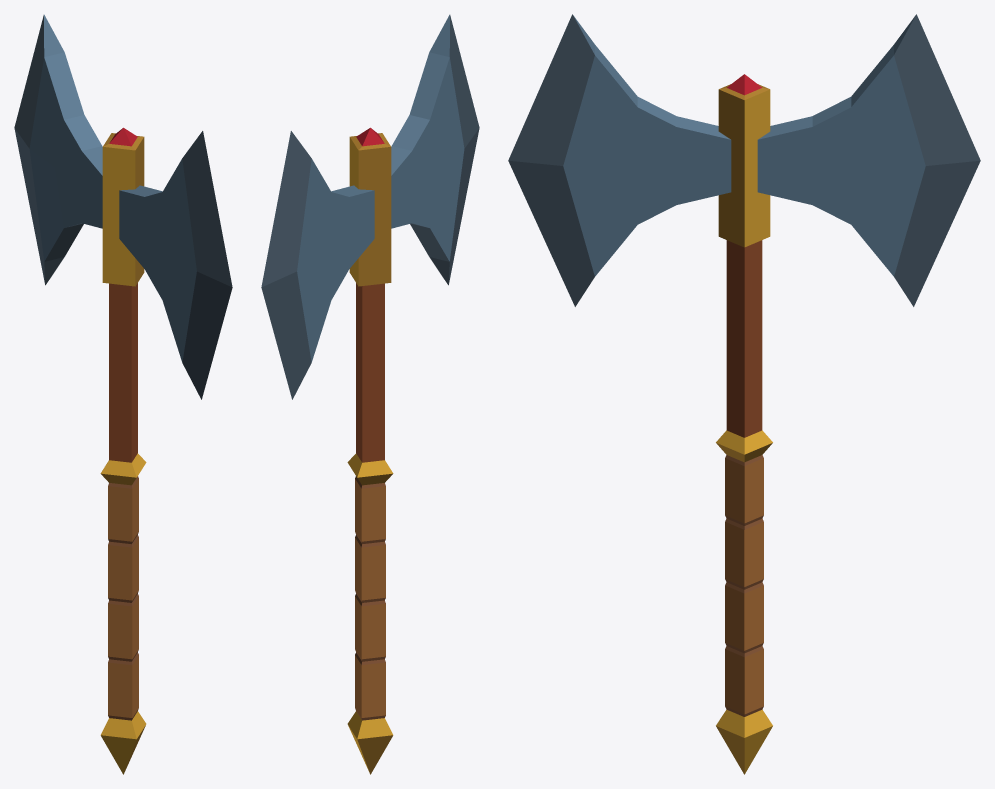
The model's file is SM_GreatAxe_B.fbx.
The picture shows the model from 3 angles, left to right: view 1: azimuth 30°, elevation 25°; view 2: azimuth 150°, elevation 25°; view 3: azimuth 270°, elevation 25°; orthographic projection. The views are drawn at different scales.
Parts seen in each view (by area): view 1: SM_GreatAxe_B; view 2: SM_GreatAxe_B; view 3: SM_GreatAxe_B.
Boxes of the visible parts, <box> form: SM_GreatAxe_B: <box>14,14,232,774</box>; SM_GreatAxe_B: <box>261,14,479,774</box>; SM_GreatAxe_B: <box>508,14,980,774</box>.
Bounding box in the file's own units: 0.16 × 2.33 × 1.31.
